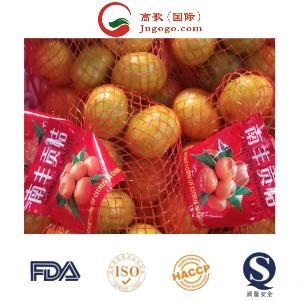orange: (25, 42, 273, 232)
